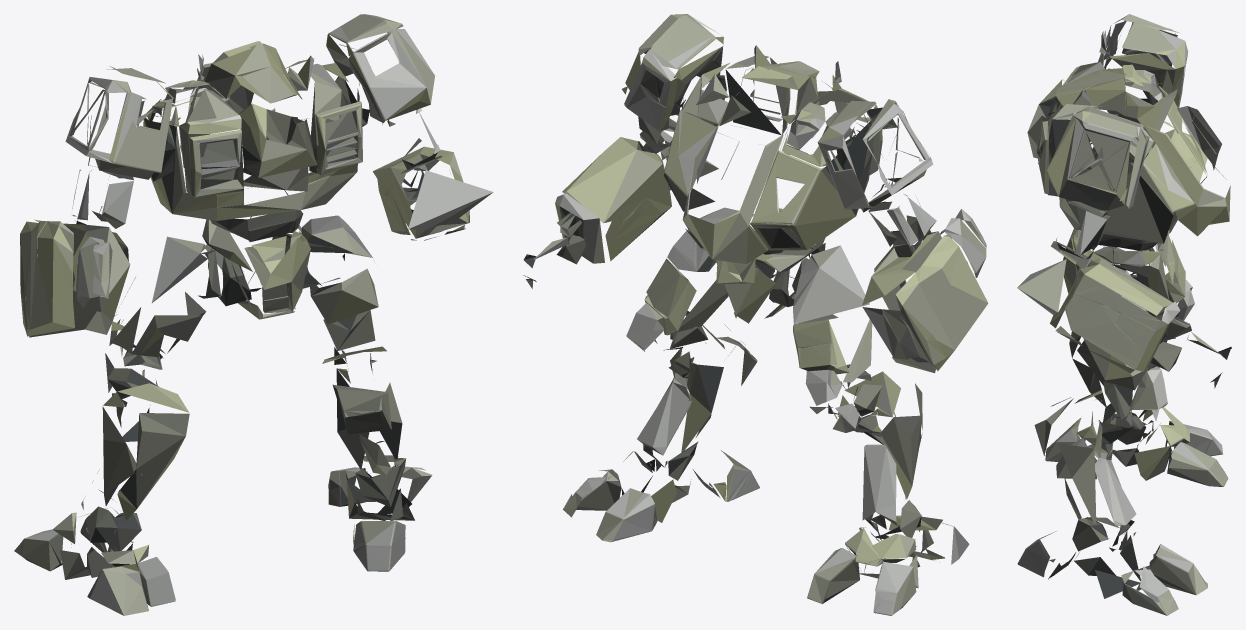
File: bastion.glb
3 renders of one model, left to right at view 1: azimuth 30°, elevation 25°; view 2: azimuth 150°, elevation 25°; view 3: azimuth 270°, elevation 25°, orthographic. The views are drawn at different scales.
Visible parts, largest first — view 1: torso, armL, armR, shinL, shinR, pelvis, thighR, thighL, sensors, footL, footR; view 2: torso, armL, armR, shinL, thighL, shinR, thighR, footL, footR, pelvis, sensors; view 3: armR, torso, shinR, armL, footR, footL, thighR, shinL, sensors, pelvis, thighL.
Boxes of the visible parts, x1,y1,x2,y2 form: torso: (143, 54, 362, 241); armL: (20, 66, 176, 337); armR: (326, 14, 493, 240); shinL: (81, 353, 189, 615); shinR: (332, 347, 406, 571); pelvis: (202, 216, 310, 319); thighR: (272, 215, 386, 363); thighL: (109, 236, 220, 369); sensors: (197, 41, 314, 103); footL: (14, 508, 133, 579); footR: (328, 455, 432, 538); torso: (664, 56, 882, 264); armL: (817, 99, 988, 373); armR: (523, 14, 726, 288); shinL: (828, 371, 969, 564); thighL: (792, 245, 872, 413); shinR: (637, 324, 759, 501); thighR: (626, 207, 774, 351); footL: (807, 528, 944, 615); footR: (563, 451, 719, 542); pelvis: (715, 208, 825, 323); sensors: (734, 45, 819, 123); armR: (1017, 106, 1231, 388); torso: (1027, 30, 1230, 250); shinR: (1017, 397, 1136, 577); armL: (1090, 14, 1207, 234); footR: (1048, 531, 1207, 615); footL: (1112, 407, 1228, 486); thighR: (1072, 254, 1167, 420); shinL: (1045, 331, 1175, 479); sensors: (1055, 64, 1161, 118); pelvis: (1063, 228, 1175, 312); thighL: (1110, 240, 1194, 320).
Size of the model in its own units: 9.19 by 10.72 by 4.38.
